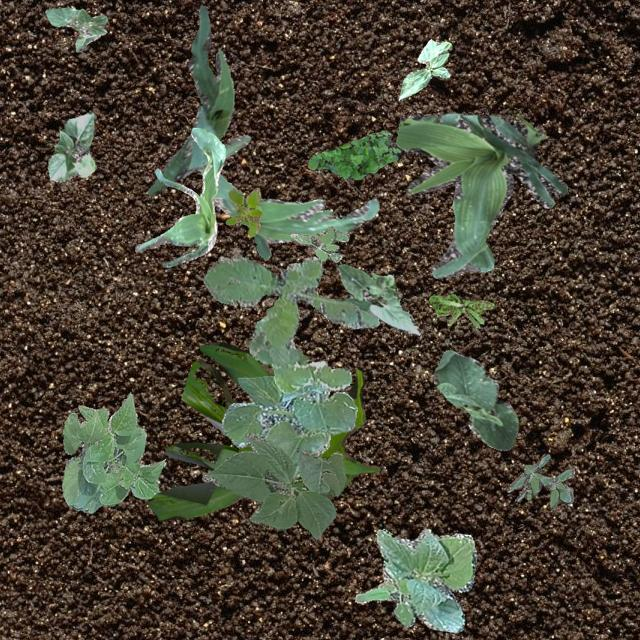crop: (146, 340, 380, 520), (394, 110, 566, 278), (197, 134, 377, 258), (146, 3, 234, 195), (200, 432, 344, 540), (220, 374, 356, 482), (354, 528, 476, 632), (133, 127, 224, 266), (60, 392, 164, 512), (432, 348, 518, 449), (336, 262, 421, 334), (46, 110, 94, 180), (398, 38, 450, 100), (44, 6, 106, 51)
weed: (202, 252, 378, 392), (306, 130, 401, 180), (506, 454, 574, 508), (428, 292, 492, 326), (290, 224, 348, 260), (224, 188, 262, 235)
